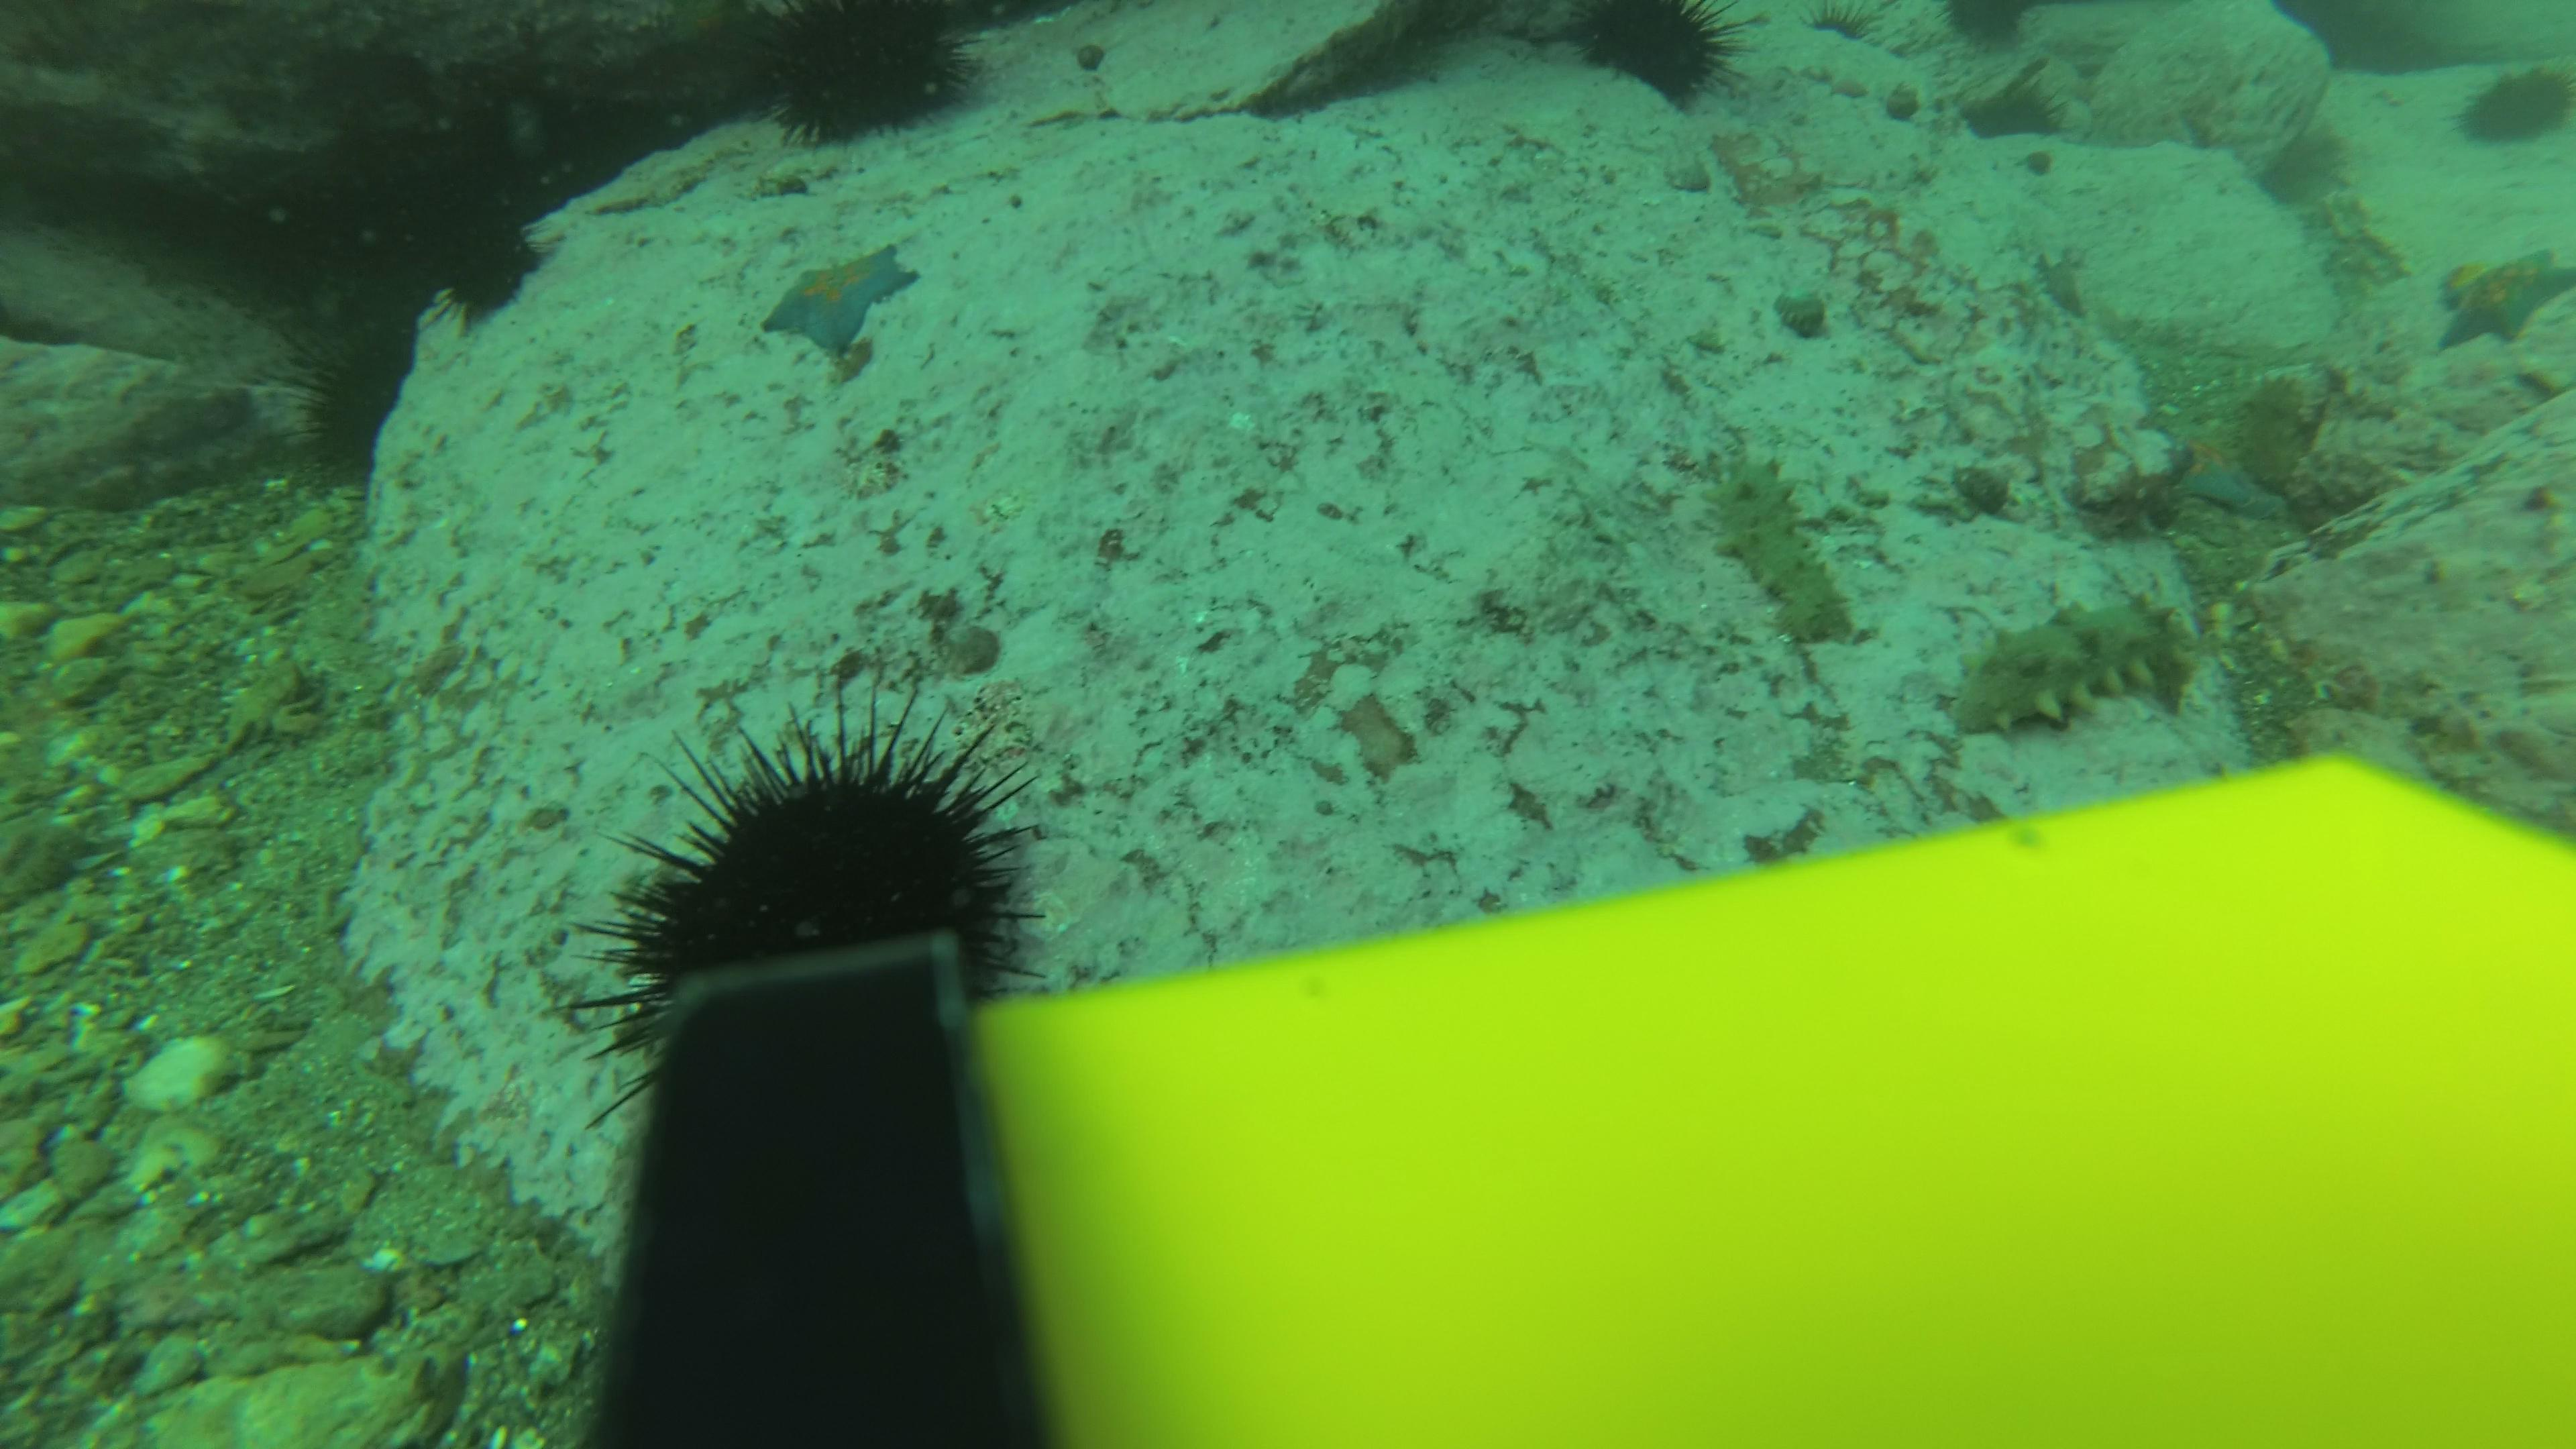urchin: (616, 697, 1093, 1040), (761, 0, 994, 142), (1585, 0, 1743, 97), (435, 203, 547, 318), (2454, 51, 2567, 152), (1948, 0, 2038, 41)
